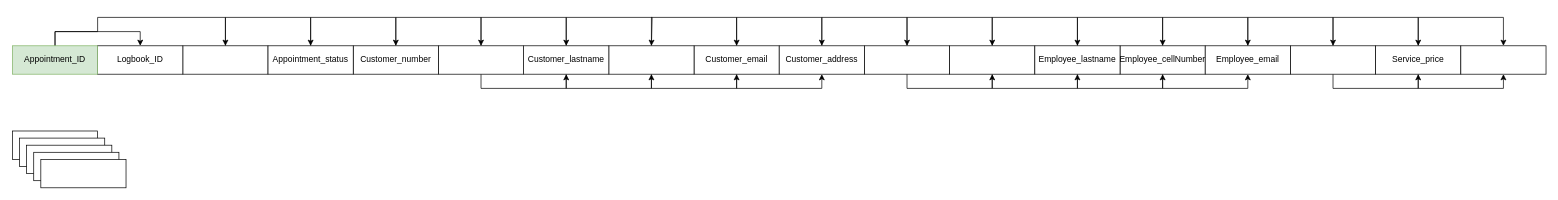
This 1558x200 diagram has some shape labels left out. The shapes that lost their labels are listed below. From the top down, each one's centre as x and y in pixels, then its label:
the point at 481,59: Customer_firstname
the point at 651,59: Customer_cellNumber
the point at 907,59: Employee_number
the point at 992,59: Employee_firstname
the point at 1333,59: Service_number
the point at 1503,59: Service_description
